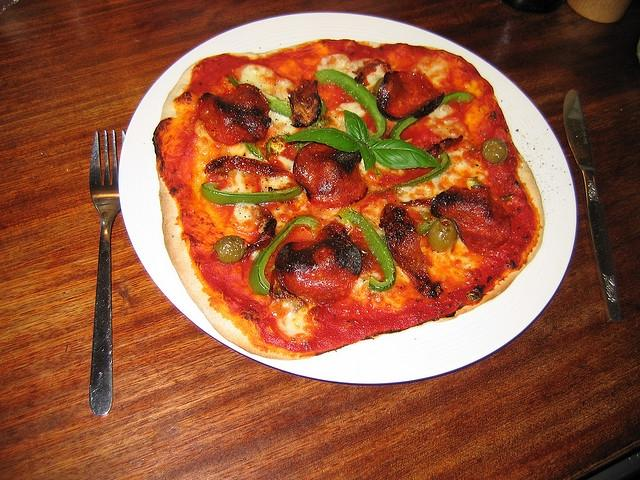bell pepper: (250, 216, 318, 296), (334, 208, 396, 291), (314, 68, 386, 138), (390, 92, 473, 140), (374, 150, 451, 194), (228, 75, 292, 117), (201, 182, 303, 205), (244, 142, 268, 161), (417, 220, 436, 234)
